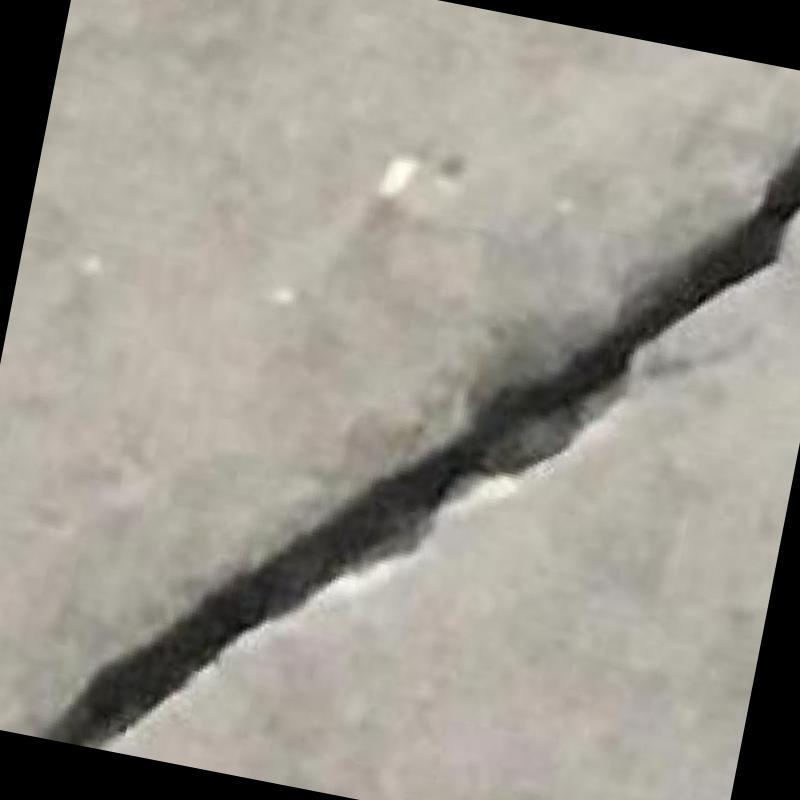crack: (43, 148, 800, 747)
